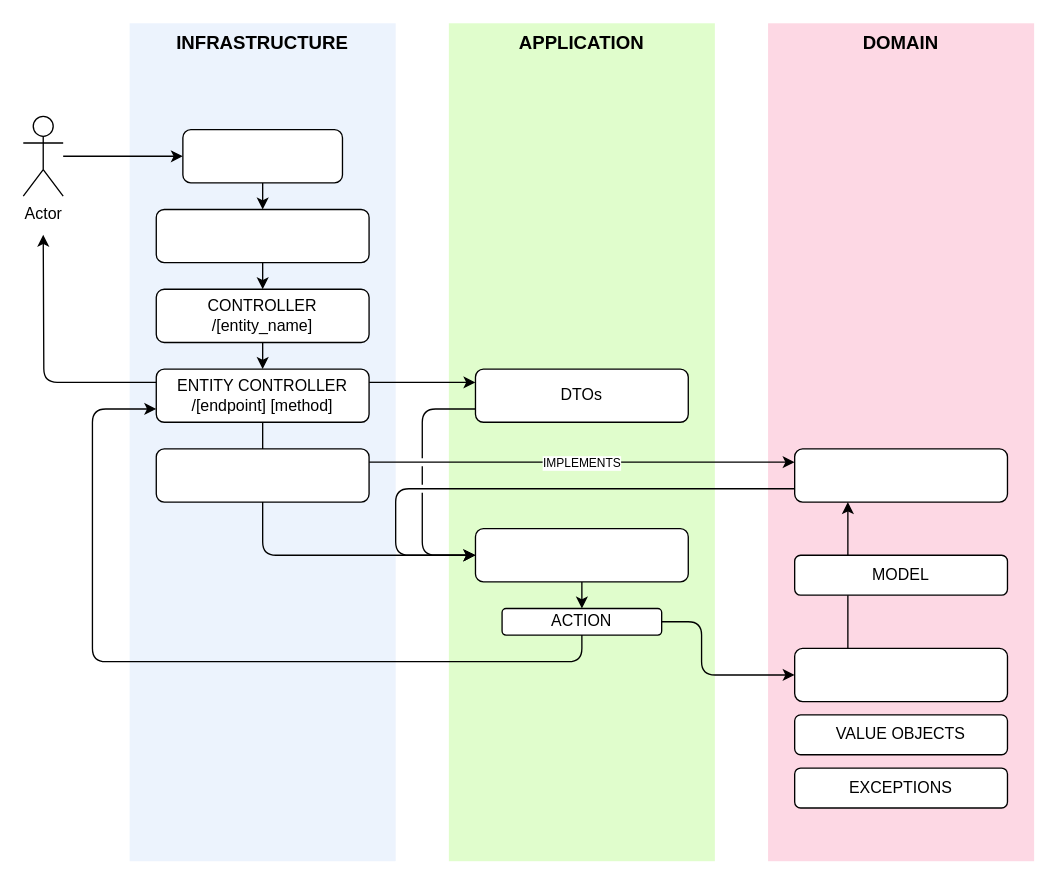
The diagram is 1057 pixels wide and 883 high, and some of its shapes have lost their labels. The centre of each missing label's shape, as x and y in pixels:
"ABSTRACT REPOSITORY" goes at (900,475).
"APP" goes at (262,155).
"CONTROLLER BASE /api/v1" goes at (262,235).
"ENTITY" goes at (900,674).
"ENTITY REPOSITORY" goes at (262,475).
"ENTITY SERVICE" goes at (581,554).
